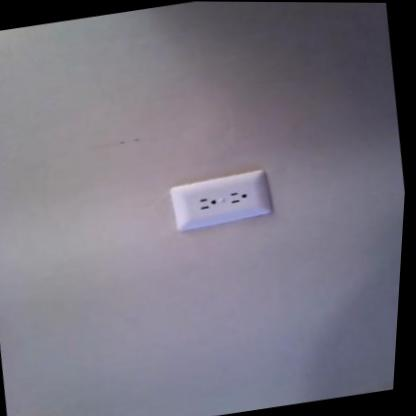OUTLET: (163, 167, 277, 233)
